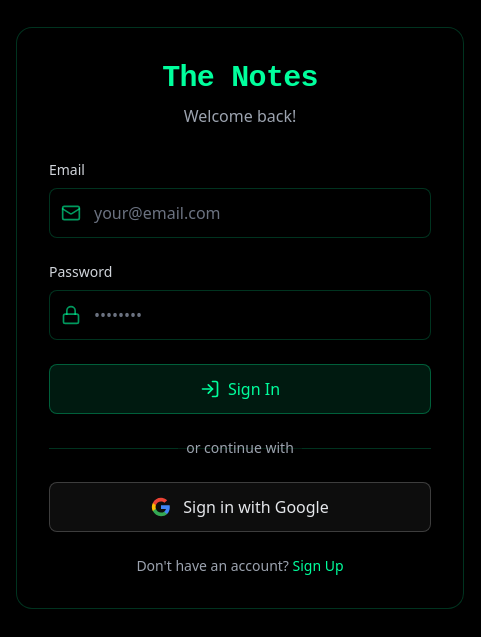
Test: Firebase Authentication Tests › Sign Up Flow › should display signup form correctly
Check: the heading "The Notes" is shown, box [162,61,318,95]
Check: the field with id "email" is shown, box [49,188,431,238]
Step 1. Click the button "Sign Up" → coordinates (319, 566), box [293,556,344,576]
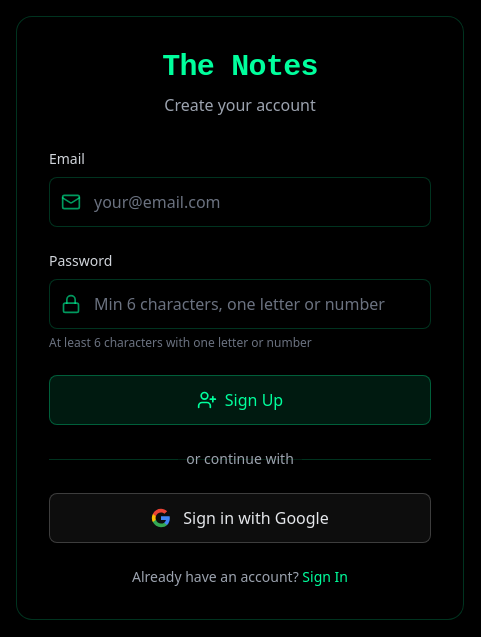
Check: the text "Create your account" is shown, box [164,94,316,116]
